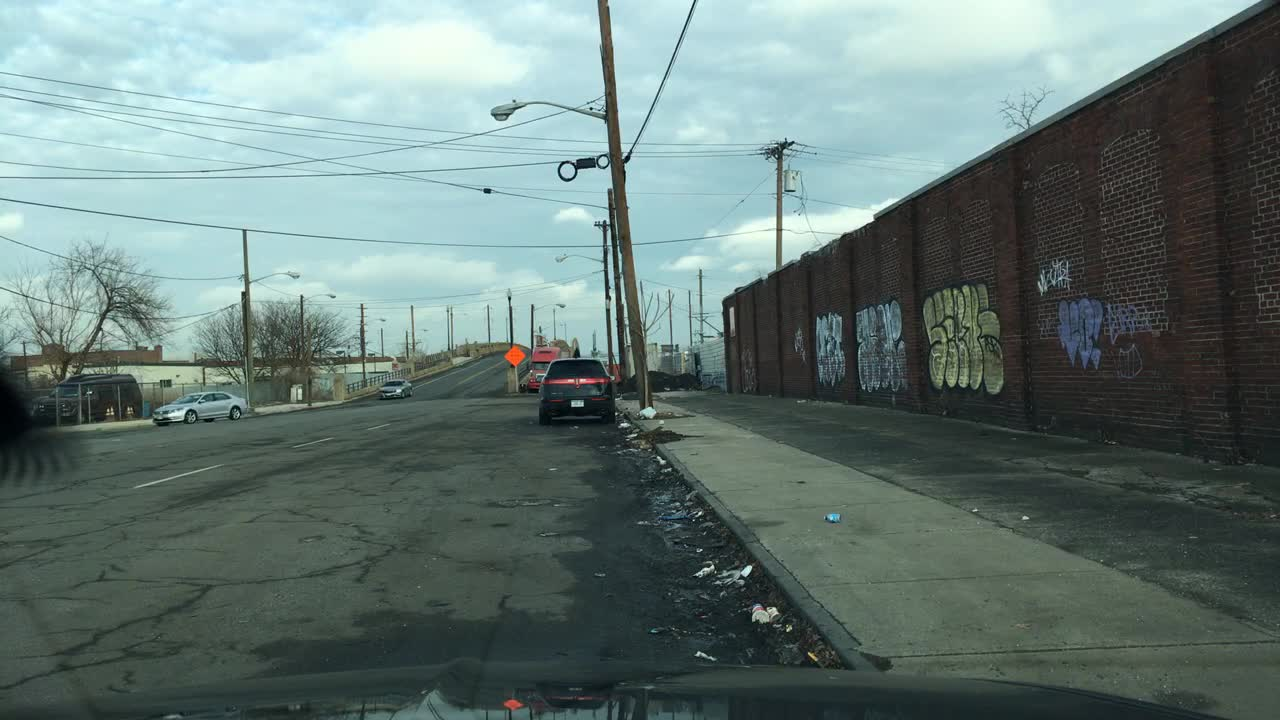car: (34, 372, 141, 427), (538, 356, 618, 427), (151, 390, 246, 427), (377, 377, 412, 401)
traffic sign: (504, 345, 525, 367)
truck: (527, 345, 558, 390)
